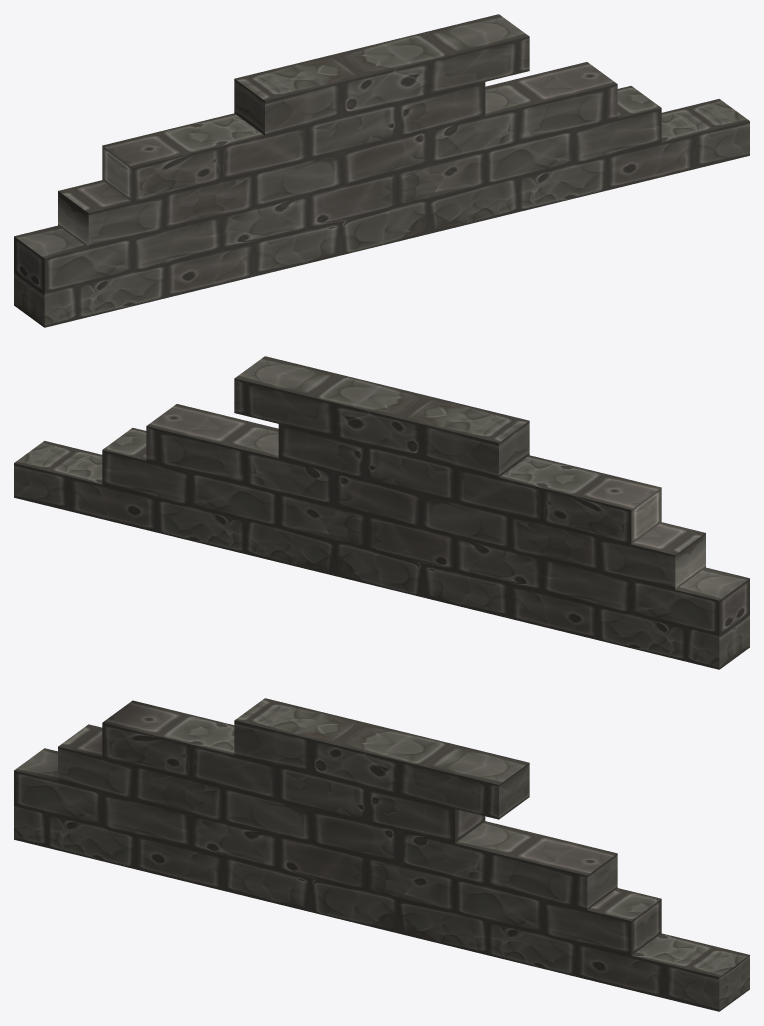
Rendered from Ruin_02.fbx.
3 renders of one model, top to bottom at view 1: azimuth 30°, elevation 25°; view 2: azimuth 150°, elevation 25°; view 3: azimuth 330°, elevation 25°, orthographic.
Visible parts, largest first — view 1: Ruin_Wall; view 2: Ruin_Wall; view 3: Ruin_Wall.
Boxes of the visible parts, left/top/right/bottom form: Ruin_Wall: left=14, top=14, right=749, bottom=327; Ruin_Wall: left=14, top=356, right=749, bottom=669; Ruin_Wall: left=14, top=698, right=749, bottom=1011.
Size of the model in its own units: 40 by 9.38 by 3.
